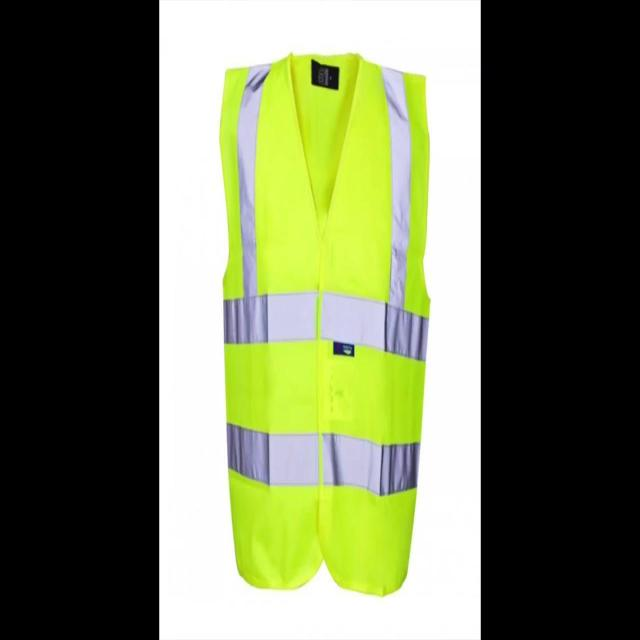Vest: (220, 55, 432, 596)
